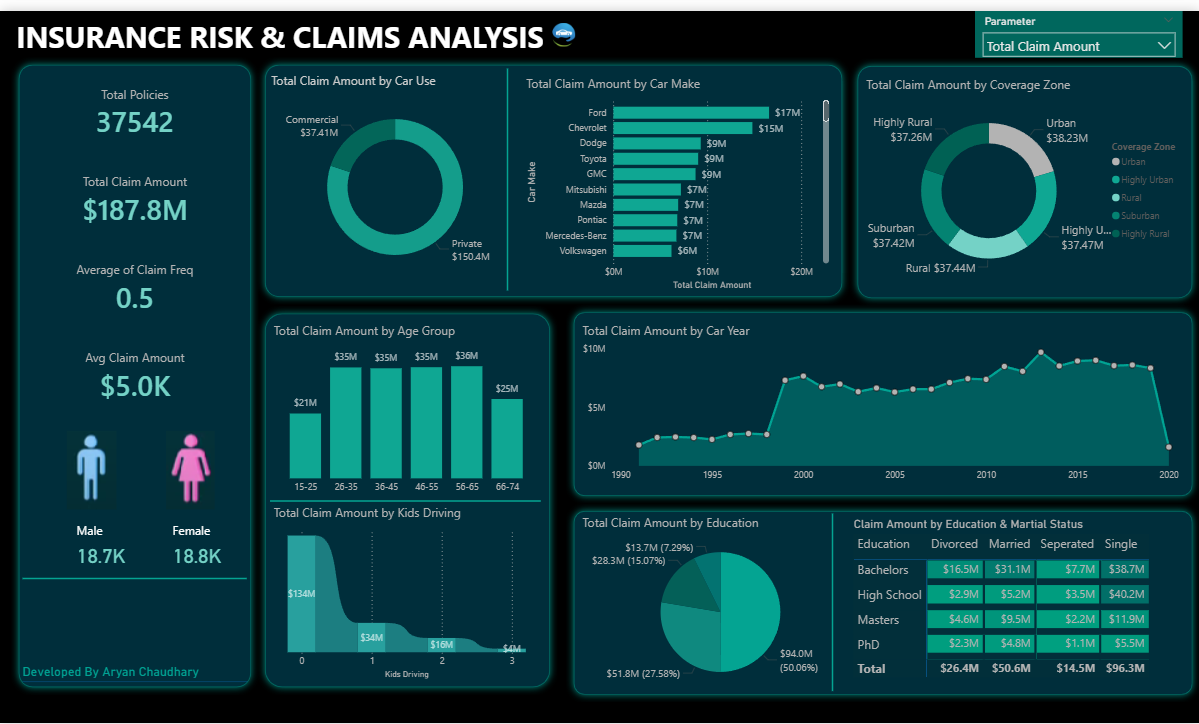

What the dashboard file says about the page in this screenshot:
{"tool":"powerbi","page":{"name":"Page 1","canvas":[1600,950],"ordinal":0},"visuals":[{"type":"shape","title":"INSURANCE RISKA","box":[0,0,746.6,65.3],"z":0},{"type":"shape","box":[14.3,62.1,329.5,850],"z":1000},{"type":"cardVisual","fields":{"Data":["insurance_data_car.Total Policies","insurance_data_car.Total Claim Amount","insurance_data_car.Claim Freq","insurance_data_car.Avg Claim Amount"]},"box":[44.6,81.2,270.6,460],"z":2000},{"type":"cardVisual","fields":{"Data":["insurance_data_car.Male Count","insurance_data_car.Female Count"]},"box":[84.4,655.8,259.5,109.8],"z":3000},{"type":"image","box":[197.4,555.5,114.6,114.6],"z":4000},{"type":"image","box":[65.3,555.5,114.6,114.6],"z":5000},{"type":"slicer","fields":{"Values":["Parameter.Parameter"]},"box":[1300.5,0,277,62.1],"z":6000},{"type":"shape","box":[343.8,62.1,789.5,329.5],"z":7000},{"type":"donutChart","fields":{"Y":["insurance_data_car.Total Claim Amount"],"Category":["insurance_data_car.Car Use"]},"box":[356.6,81.2,340.7,284.9],"z":8000},{"type":"clusteredBarChart","fields":{"Y":["insurance_data_car.Total Claim Amount"],"Category":["insurance_data_car.Car Make"]},"box":[697.2,84.4,413.9,291.3],"z":9000},{"type":"shape","box":[1133.4,63.7,466.4,329.5],"z":10000},{"type":"donutChart","fields":{"Y":["insurance_data_car.Total Claim Amount"],"Category":["insurance_data_car.Coverage Zone"]},"box":[1149.3,86,439.3,284.9],"z":11000},{"type":"shape","box":[343.3,393.3,400,518.3],"z":12000},{"type":"clusteredColumnChart","fields":{"Y":["insurance_data_car.Total Claim Amount"],"Category":["insurance_data_car.Age Group"]},"box":[360,415,365,238.3],"z":13000},{"type":"ribbonChart","fields":{"Y":["insurance_data_car.Total Claim Amount"],"Category":["insurance_data_car.Kids Driving"]},"box":[360,656.7,365,238.3],"z":14000},{"type":"shape","box":[755,391.7,845,265],"z":15000},{"type":"areaChart","fields":{"Y":["insurance_data_car.Total Claim Amount"],"Category":["insurance_data_car.Car Year"]},"box":[771.7,415,805,221.7],"z":16000},{"type":"shape","box":[755,656.7,845,265],"z":17000},{"type":"pieChart","fields":{"Y":["insurance_data_car.Total Claim Amount"],"Category":["insurance_data_car.Education"]},"box":[771.7,670,378.3,241.7],"z":18000},{"type":"pivotTable","title":"Claim Amount by Education & Martial Status","fields":{"Rows":["insurance_data_car.Education"],"Columns":["insurance_data_car.Marital Status"],"Values":["insurance_data_car.Total Claim Amount"]},"box":[1133.3,675,443.3,230],"z":19000},{"type":"shape","box":[526.7,76.7,300,296],"z":20000},{"type":"shape","box":[360,503.3,361,300],"z":21000},{"type":"shape","box":[960,670,300,237],"z":22000},{"type":"shape","box":[30,606.7,299,300],"z":23000},{"type":"shape","title":"Developed By Aryan Chaudhary","box":[30,870,300,25],"z":24000},{"type":"image","box":[731.7,1.7,40,60],"z":24001}]}

Visuals, with their boxes in screenshot pixels (x1, y1, x2, y2), scaled from the page's 1600x950 canvas onto the 1199x724 screenshot:
"INSURANCE RISKA" shape: [0, 0, 559, 50]
shape: [11, 47, 258, 695]
cardVisual - insurance_data_car.Total Policies x insurance_data_car.Total Claim Amount: [33, 62, 236, 412]
cardVisual - insurance_data_car.Male Count x insurance_data_car.Female Count: [63, 500, 258, 583]
image: [148, 423, 234, 511]
image: [49, 423, 135, 511]
slicer - Parameter.Parameter: [975, 0, 1182, 47]
shape: [258, 47, 849, 298]
donutChart - insurance_data_car.Total Claim Amount x insurance_data_car.Car Use: [267, 62, 523, 279]
clusteredBarChart - insurance_data_car.Total Claim Amount x insurance_data_car.Car Make: [522, 64, 833, 286]
shape: [849, 49, 1198, 300]
donutChart - insurance_data_car.Total Claim Amount x insurance_data_car.Coverage Zone: [861, 66, 1190, 283]
shape: [257, 300, 557, 695]
clusteredColumnChart - insurance_data_car.Total Claim Amount x insurance_data_car.Age Group: [270, 316, 543, 498]
ribbonChart - insurance_data_car.Total Claim Amount x insurance_data_car.Kids Driving: [270, 500, 543, 682]
shape: [566, 299, 1198, 500]
areaChart - insurance_data_car.Total Claim Amount x insurance_data_car.Car Year: [578, 316, 1182, 485]
shape: [566, 500, 1198, 702]
pieChart - insurance_data_car.Total Claim Amount x insurance_data_car.Education: [578, 511, 862, 695]
"Claim Amount by Education & Martial Status" pivotTable: [849, 514, 1181, 690]
shape: [395, 58, 620, 284]
shape: [270, 384, 540, 612]
shape: [719, 511, 944, 691]
shape: [22, 462, 247, 691]
"Developed By Aryan Chaudhary" shape: [22, 663, 247, 682]
image: [548, 1, 578, 47]
